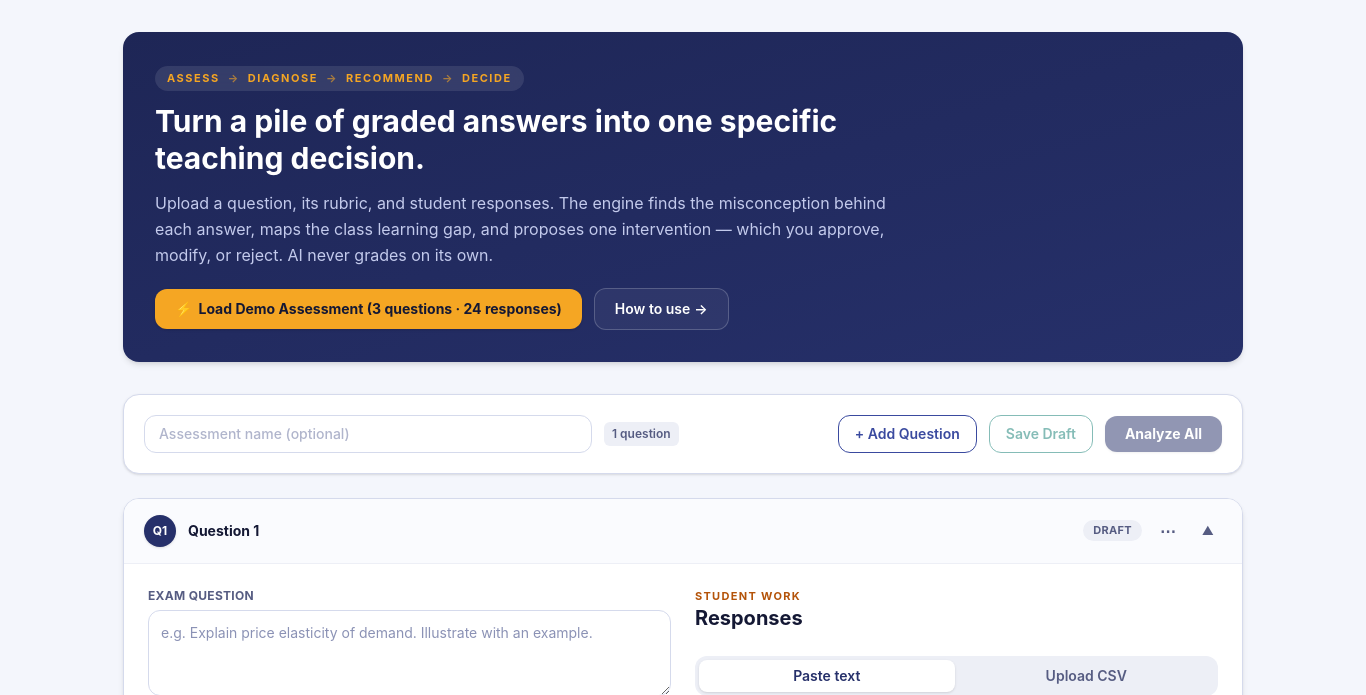
Scenario: AssessmentWorkspace › adds a question when + Add Question is clicked
This screenshot has width=1366, height=695.
Click the button "+ Add Question". click: (907, 434)
box: top-left (838, 414), bottom-right (977, 452)
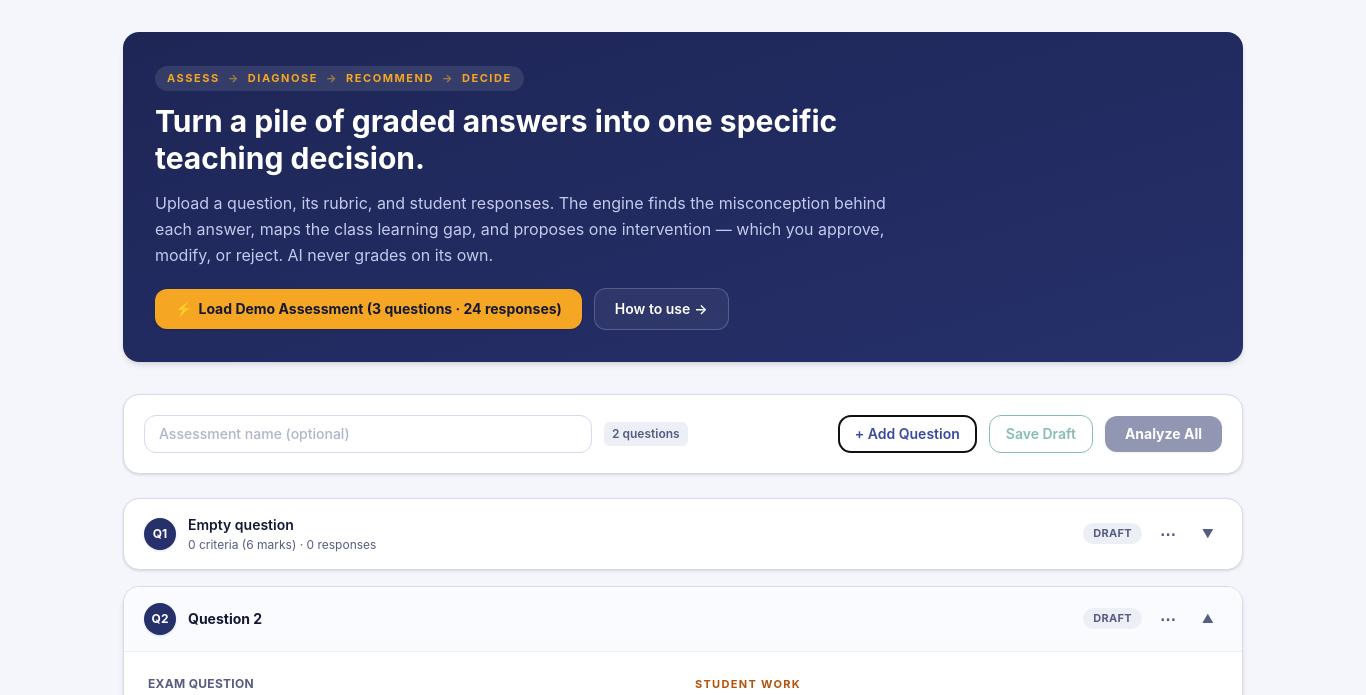
Expected: the text "Question 2" is shown, top-left (188, 610), bottom-right (262, 626)
Expected: the text "2 questions" is shown, top-left (604, 422), bottom-right (688, 446)
